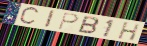1: (103, 19, 116, 38)
B: (77, 15, 100, 35)
C: (18, 6, 41, 26)
H: (117, 22, 142, 42)
I: (43, 9, 56, 29)
P: (58, 12, 80, 31)
